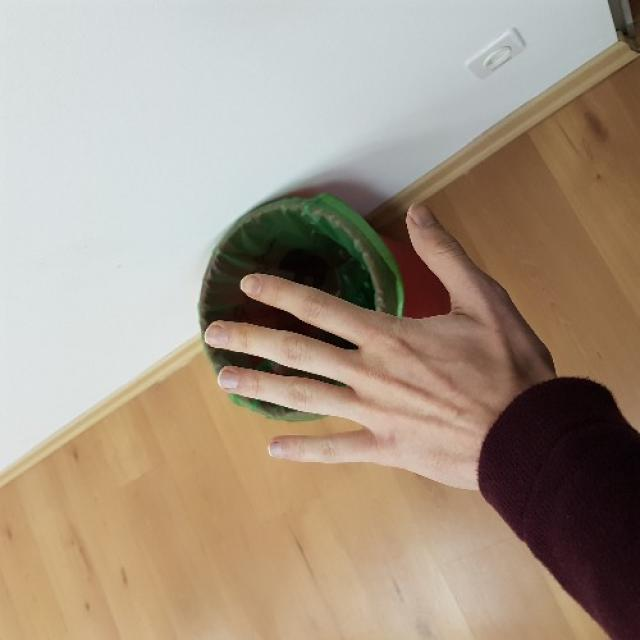paper: (203, 205, 492, 493)
